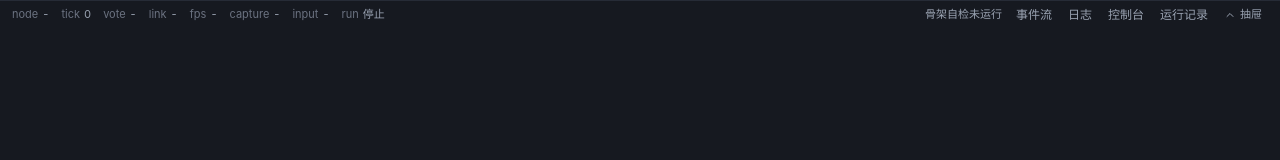
Scenario: 底部调试抽屉 › 运行记录 Tab：没跑过时给空状态，不是空白面板
Click the button "运行记录".
click(1184, 14)  # box [1154,4,1214,24]
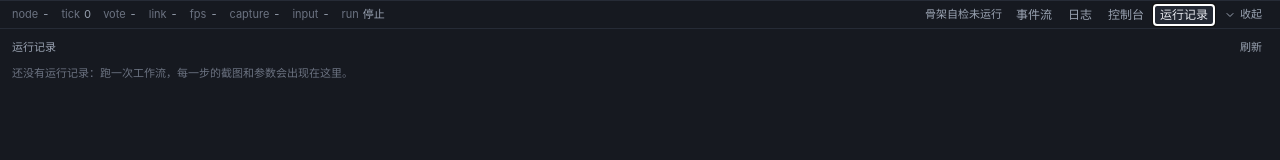
Now the text "还没有运行记录：跑一次工作流，每一步的截图和参数会出现在这里。" is shown, box [12,66,353,80]
Now the button "刷新" is shown, box [1234,37,1268,57]
